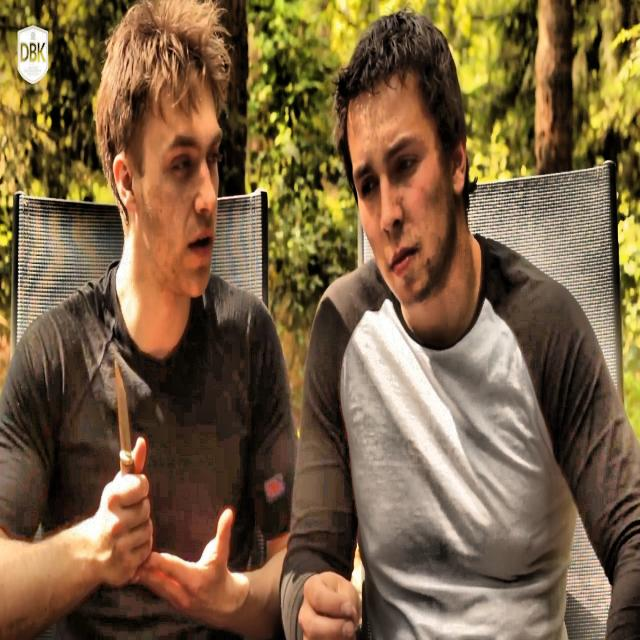knife: (114, 361, 136, 481)
